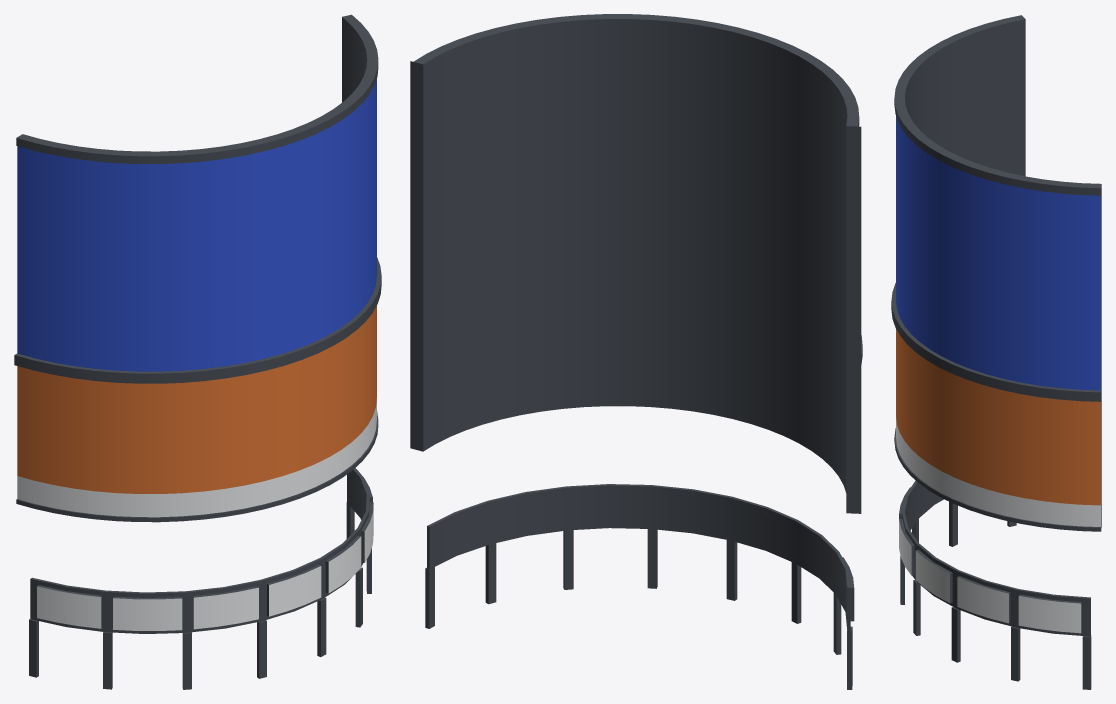
Rendered from nyc-3-times-square-sign.glb.
3 views of the same model, side by side, from view 1: azimuth 30°, elevation 25°; view 2: azimuth 150°, elevation 25°; view 3: azimuth 270°, elevation 25° (orthographic). The views are drawn at different scales.
Parts seen in each view (by area): view 1: 3 Times Square Sign; view 2: 3 Times Square Sign; view 3: 3 Times Square Sign.
Part boxes in pixels (bbox=[...]): 3 Times Square Sign: bbox=[14, 14, 381, 689]; 3 Times Square Sign: bbox=[410, 14, 862, 689]; 3 Times Square Sign: bbox=[891, 15, 1101, 689].
Bounding box in the file's own units: 27.83 × 37.3 × 14.07.
